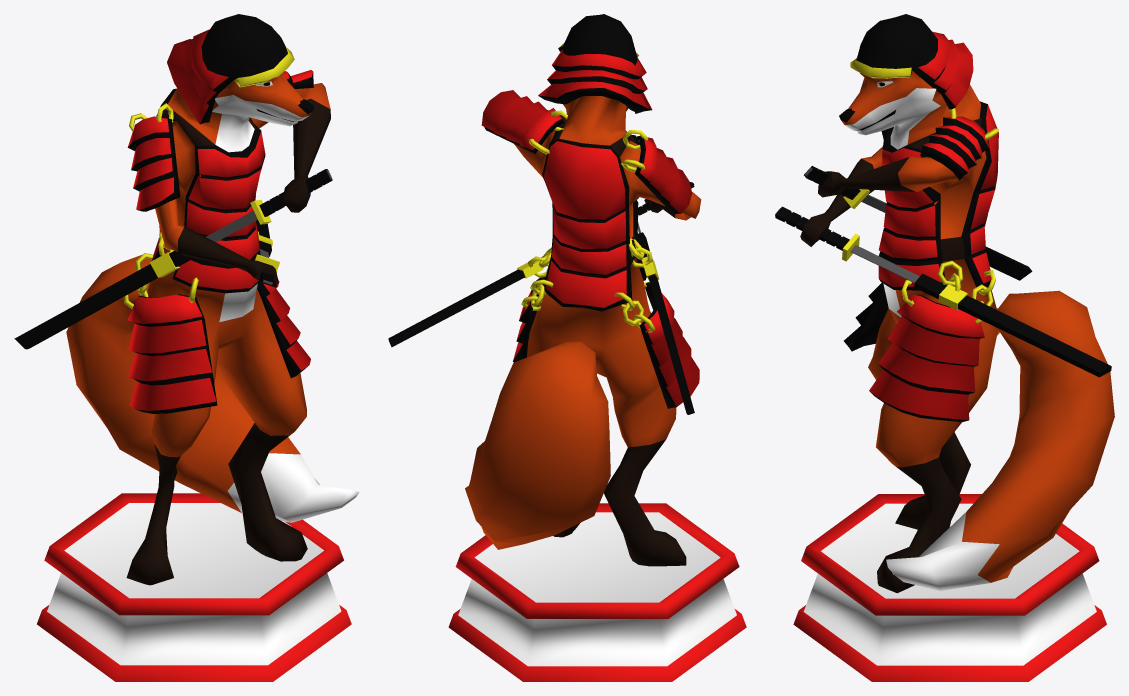
The model's file is drachenkrieger.FBX.
The picture shows the model from 3 angles, left to right: view 1: azimuth 30°, elevation 25°; view 2: azimuth 150°, elevation 25°; view 3: azimuth 270°, elevation 25°; orthographic projection. The views are drawn at different scales.
Parts seen in each view (by area): view 1: drachenkrieger; view 2: drachenkrieger; view 3: drachenkrieger.
Boxes of the visible parts, left/top/right/bottom form: drachenkrieger: left=14, top=14, right=359, bottom=681; drachenkrieger: left=388, top=14, right=746, bottom=681; drachenkrieger: left=775, top=14, right=1114, bottom=681.
Bounding box in the file's own units: 39.21 × 81.07 × 40.45.
